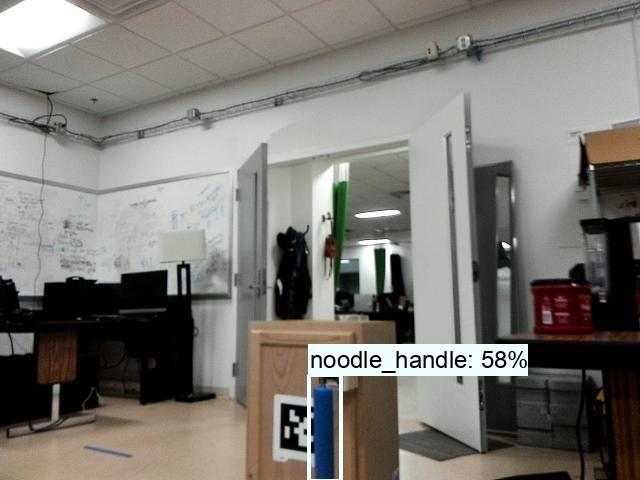noodle_handle: (307, 377, 341, 480)
